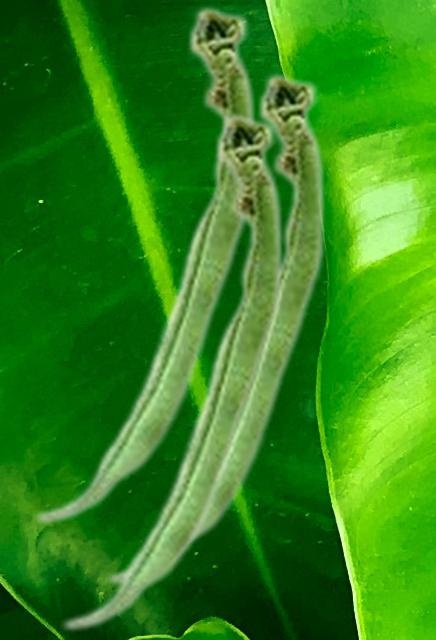french_bean: (33, 3, 256, 525), (60, 110, 283, 632), (105, 70, 325, 586)
